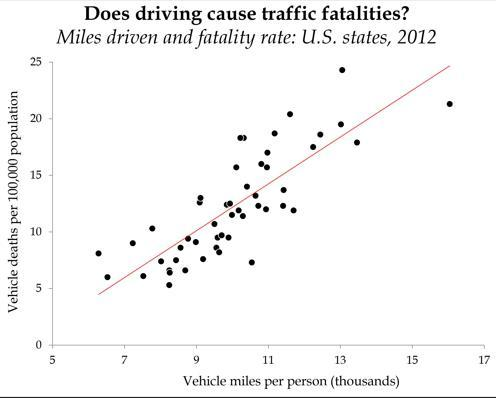axis: (47, 340, 490, 352), (46, 58, 58, 352)
point: (147, 224, 158, 234), (127, 239, 139, 248), (94, 248, 104, 258), (247, 257, 257, 267), (103, 273, 113, 282), (138, 271, 148, 280), (164, 280, 174, 289), (336, 120, 346, 129), (164, 269, 175, 277), (242, 182, 251, 191), (263, 148, 272, 157), (316, 130, 325, 139), (183, 235, 193, 243), (227, 199, 235, 209), (212, 234, 222, 242), (211, 244, 221, 252), (157, 258, 166, 266), (172, 256, 181, 264), (176, 244, 185, 252), (239, 212, 247, 221), (224, 232, 232, 241), (262, 205, 270, 214), (255, 201, 263, 210), (251, 192, 260, 200), (279, 202, 288, 210), (289, 207, 298, 215), (280, 185, 288, 194), (232, 163, 241, 171), (179, 267, 189, 274), (194, 200, 204, 207), (235, 205, 243, 213), (228, 211, 236, 219), (218, 231, 226, 239), (215, 248, 223, 256), (199, 255, 207, 263), (257, 160, 265, 168), (309, 143, 317, 151), (353, 138, 361, 146), (192, 238, 199, 247), (211, 219, 218, 228), (197, 194, 205, 201), (222, 201, 230, 208), (263, 164, 271, 171), (236, 135, 244, 142), (271, 130, 279, 137), (164, 266, 173, 272), (242, 134, 248, 142), (285, 110, 285, 110)
